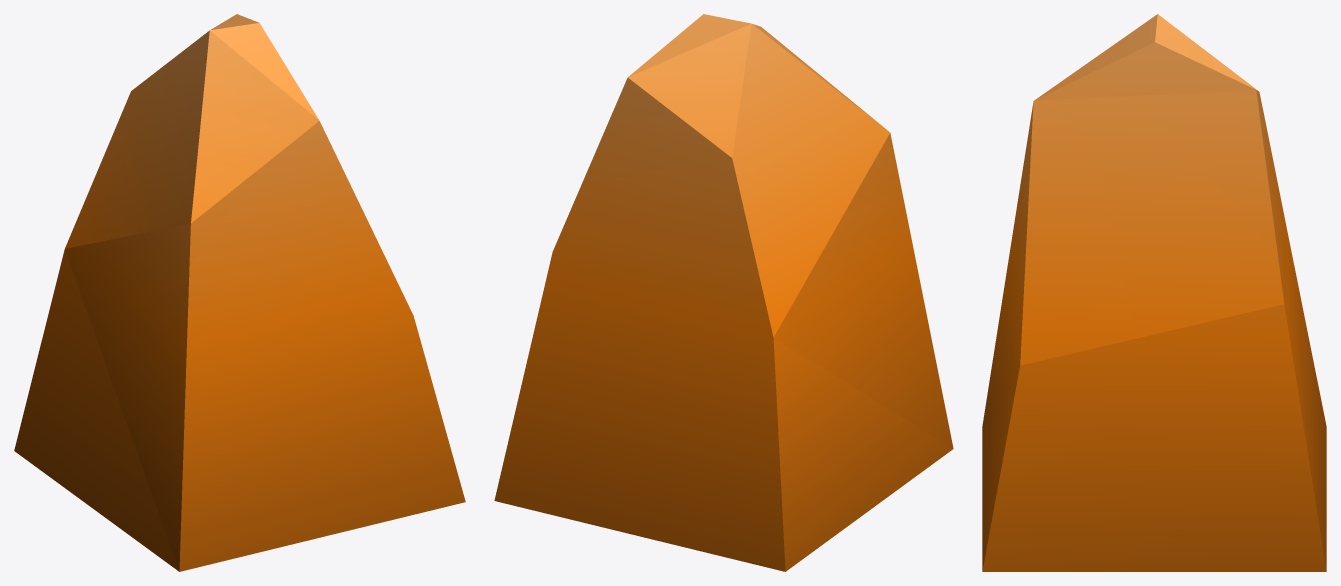
The model's file is Rock_B_01.fbx.
3 views of the same model, side by side, from view 1: azimuth 30°, elevation 25°; view 2: azimuth 150°, elevation 25°; view 3: azimuth 270°, elevation 25° (orthographic). The views are drawn at different scales.
Parts seen in each view (by area): view 1: Rock_B_01; view 2: Rock_B_01; view 3: Rock_B_01.
Part boxes in pixels (x1,y1,x2,y2): Rock_B_01: (14,14,465,571); Rock_B_01: (494,14,953,571); Rock_B_01: (982,14,1326,571).
Size of the model in its own units: 57.29 by 86.44 by 57.29.
